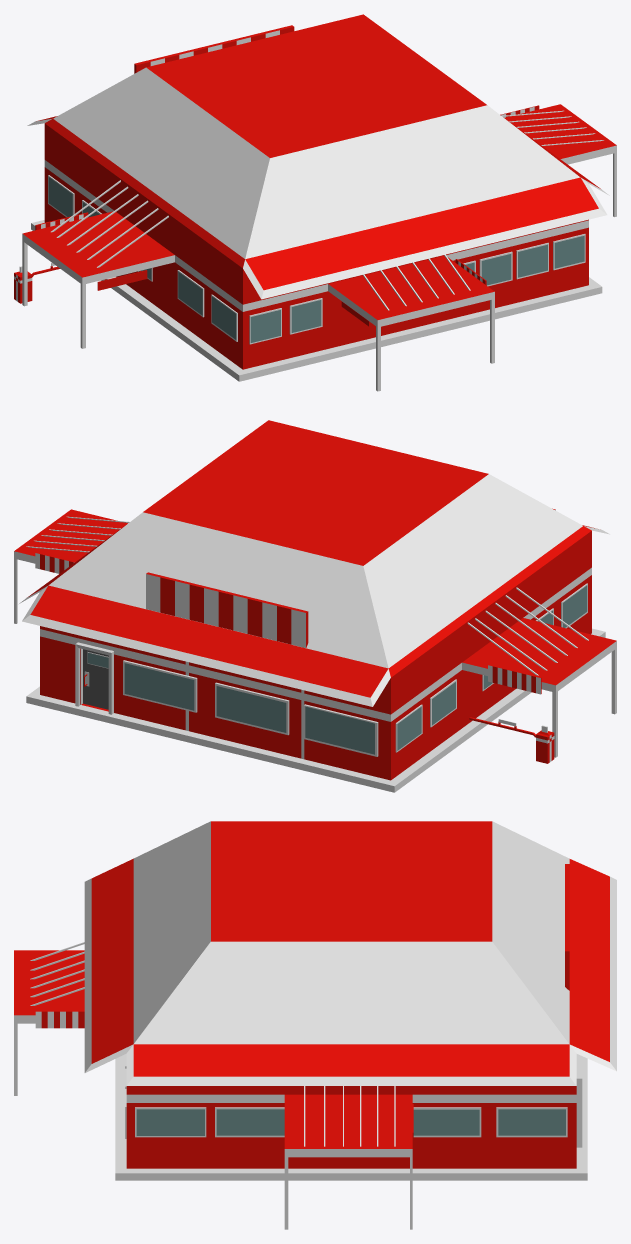
Rendered from New Building 6 A3.fbx.
The picture shows the model from 3 angles, top to bottom: view 1: azimuth 30°, elevation 25°; view 2: azimuth 150°, elevation 25°; view 3: azimuth 270°, elevation 25°; orthographic projection. The views are drawn at different scales.
Visible parts, largest first — view 1: Cube; view 2: Cube; view 3: Cube.
Part boxes in pixels (<box>): Cube: <box>14,14,616,391</box>; Cube: <box>14,420,616,792</box>; Cube: <box>14,821,616,1229</box>.
Size of the model in its own units: 666 by 208 by 571.
